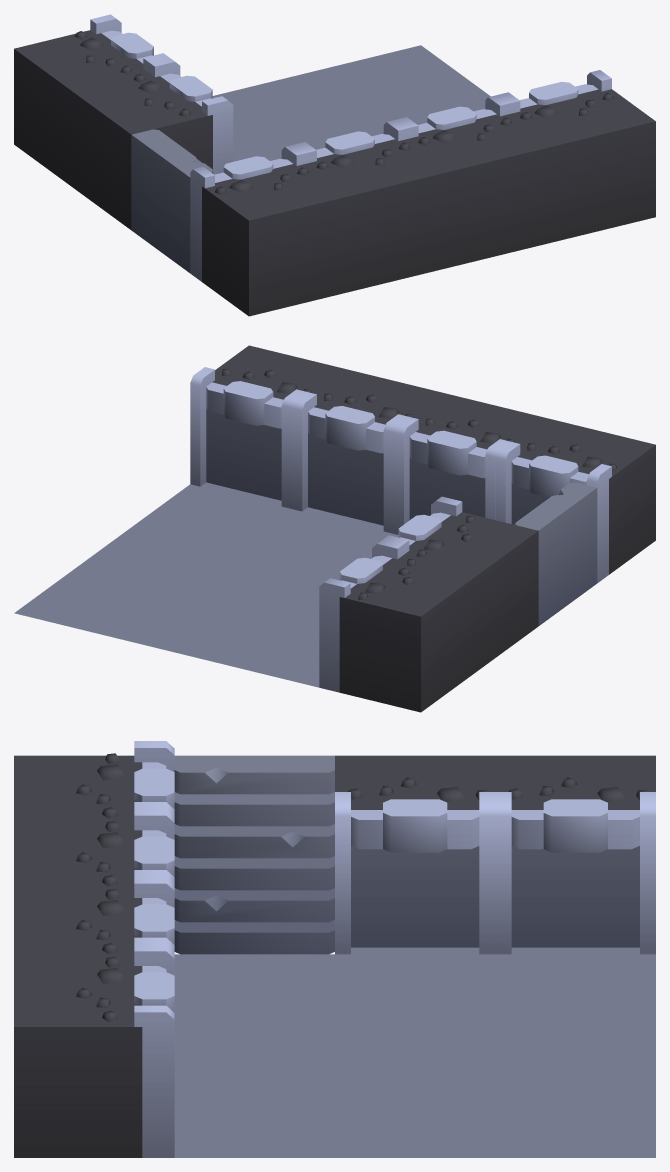
File: embark-room.glb
The picture shows the model from 3 angles, top to bottom: view 1: azimuth 30°, elevation 25°; view 2: azimuth 150°, elevation 25°; view 3: azimuth 270°, elevation 25°; orthographic projection. The views are drawn at different scales.
Visible parts, largest first — view 1: wall-half.003, wall-half.002, wall-half.004, wall-half.005, wall-half, wall-half.001, stairs, floor.008, floor.005, floor.006, floor.002, floor.004 (+1 smaller); view 2: wall-half.001, wall-half.004, wall-half.005, wall-half.003, wall-half.002, wall-half, stairs, floor.005, floor.007, floor.006, floor.008, floor.002 (+3 smaller); view 3: wall-half.005, wall-half.001, wall-half, stairs, floor.001, floor, floor.004, wall-half.002, wall-half.003, wall-half.004, floor.002, floor.003 (+4 smaller).
Boxes of the visible parts, left/top/right/bottom form: wall-half.003: left=190, top=144, right=350, bottom=316; wall-half.002: left=295, top=119, right=452, bottom=291; wall-half.004: left=397, top=94, right=554, bottom=266; wall-half.005: left=499, top=70, right=655, bottom=241; wall-half: left=72, top=57, right=233, bottom=229; wall-half.001: left=14, top=14, right=168, bottom=186; stairs: left=131, top=129, right=216, bottom=272; floor.008: left=319, top=45, right=479, bottom=112; floor.005: left=218, top=70, right=377, bottom=137; floor.006: left=378, top=88, right=490, bottom=124; floor.002: left=276, top=113, right=388, bottom=149; floor.004: left=212, top=95, right=275, bottom=148; wall-half.001: left=319, top=539, right=479, bottom=712; wall-half.004: left=292, top=370, right=451, bottom=533; wall-half.005: left=190, top=345, right=350, bottom=508; wall-half.003: left=495, top=420, right=655, bottom=582; wall-half.002: left=393, top=395, right=553, bottom=534; wall-half: left=383, top=496, right=538, bottom=669; stairs: left=514, top=482, right=597, bottom=625; floor.005: left=116, top=595, right=275, bottom=662; floor.007: left=132, top=484, right=291, bottom=551; floor.006: left=73, top=527, right=232, bottom=594; floor.008: left=14, top=570, right=173, bottom=637; floor.002: left=175, top=552, right=334, bottom=619; wall-half.005: left=14, top=944, right=174, bottom=1157; wall-half.001: left=495, top=755, right=655, bottom=954; wall-half: left=335, top=755, right=495, bottom=954; stairs: left=174, top=755, right=334, bottom=954; floor.001: left=335, top=954, right=495, bottom=1022; floor: left=174, top=954, right=334, bottom=1022; floor.004: left=495, top=954, right=655, bottom=1022; wall-half.002: left=14, top=809, right=174, bottom=891; wall-half.003: left=14, top=741, right=174, bottom=823; wall-half.004: left=14, top=876, right=174, bottom=958; floor.002: left=335, top=1022, right=495, bottom=1089; floor.003: left=174, top=1022, right=334, bottom=1089.
Size of the model in its own units: 4 by 1 by 4.
Materials: 3 (3 with a texture image).
